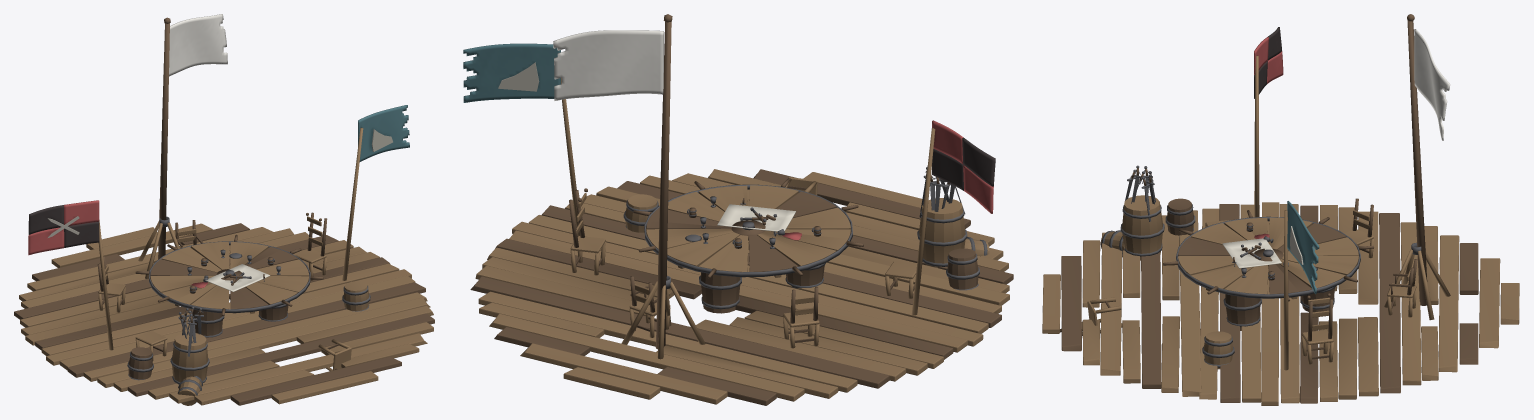
The model's file is parley_table.3d5c9bba.glb.
3 views of the same model, side by side, from view 1: azimuth 30°, elevation 25°; view 2: azimuth 150°, elevation 25°; view 3: azimuth 270°, elevation 25° (orthographic). The views are drawn at different scales.
Parts seen in each view (by area): view 1: parley_table; view 2: parley_table; view 3: parley_table.
Part boxes in pixels (bbox=[...]): parley_table: bbox=[14, 14, 434, 405]; parley_table: bbox=[463, 14, 1013, 405]; parley_table: bbox=[1042, 14, 1519, 405].
Bounding box in the file's own units: 8.94 × 5.71 × 8.18.
